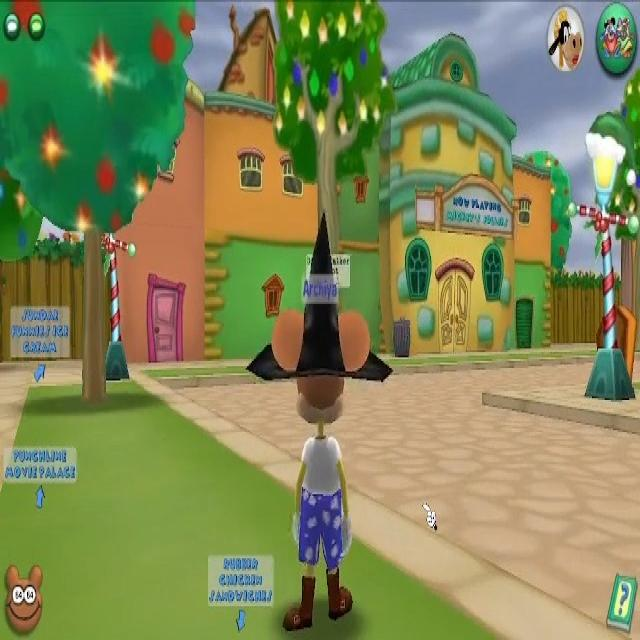doubletalker: (307, 254, 350, 396)
